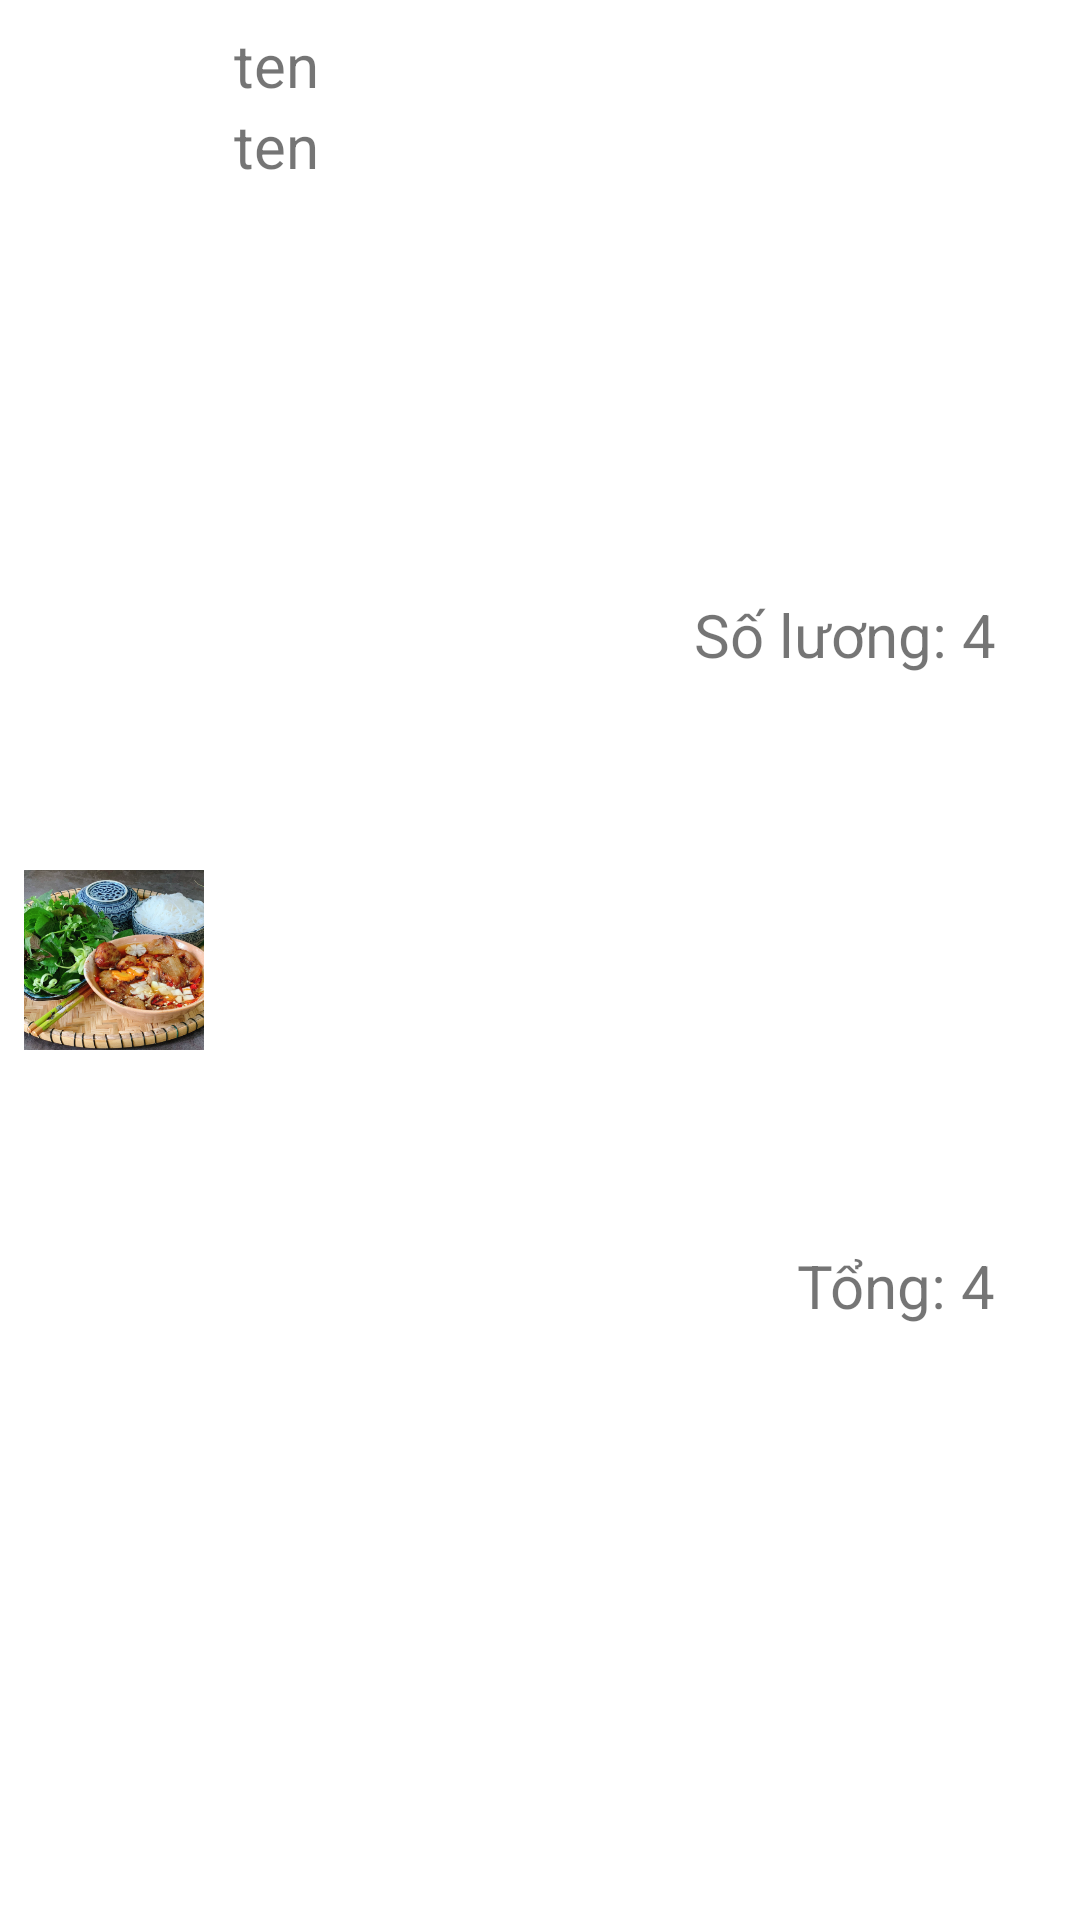

Where to tap for icons on this 1080px x 1920px app screen, as (x=x, y=y):
bun cha: (x=114, y=960)
